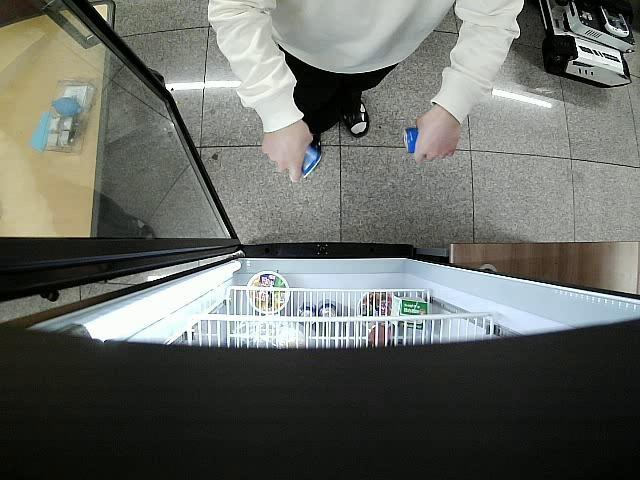15_letsbe: (300, 142, 324, 179), (402, 126, 422, 155)
